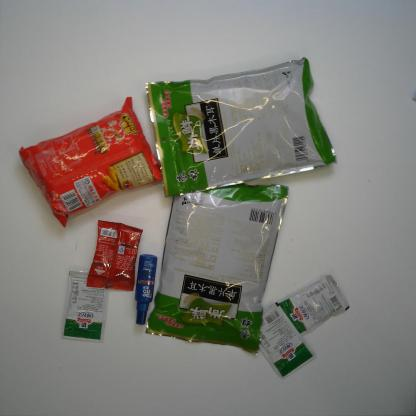Dried Food: (144, 57, 341, 200), (145, 181, 290, 356)
Instant Drink: (86, 219, 144, 292)
Personal Hygiene: (134, 254, 158, 326)
Puffed Food: (17, 95, 164, 229)
Seasoner: (258, 300, 316, 380), (278, 274, 351, 337), (60, 271, 110, 344)
